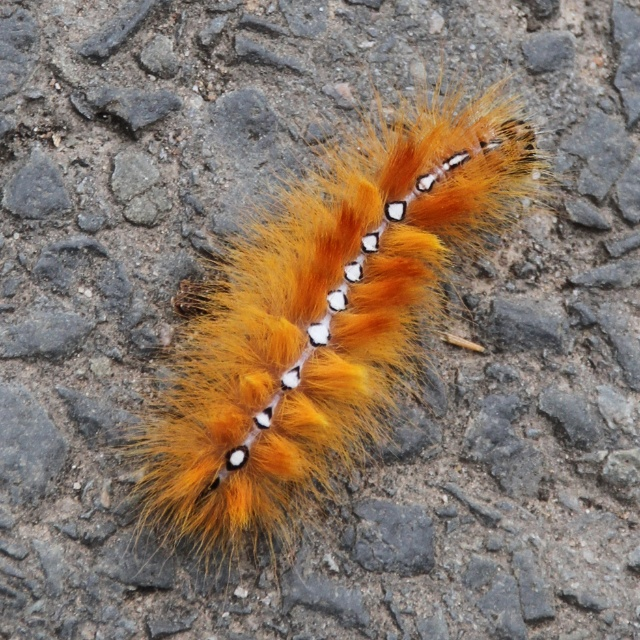Caterpillar: (86, 54, 567, 607)
